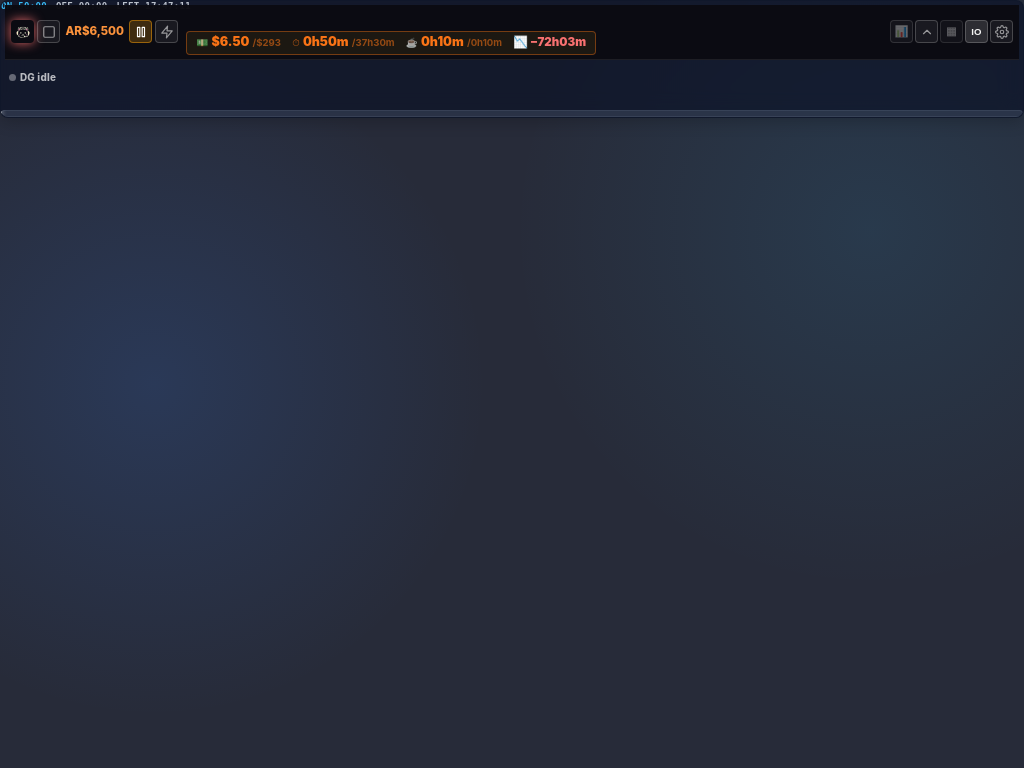
Test: header eval fixes (v4.164.0) › a pill with no number is not advertised as copyable
Click the button with id "header-expand-btn": (926, 32) [915,20,938,43]
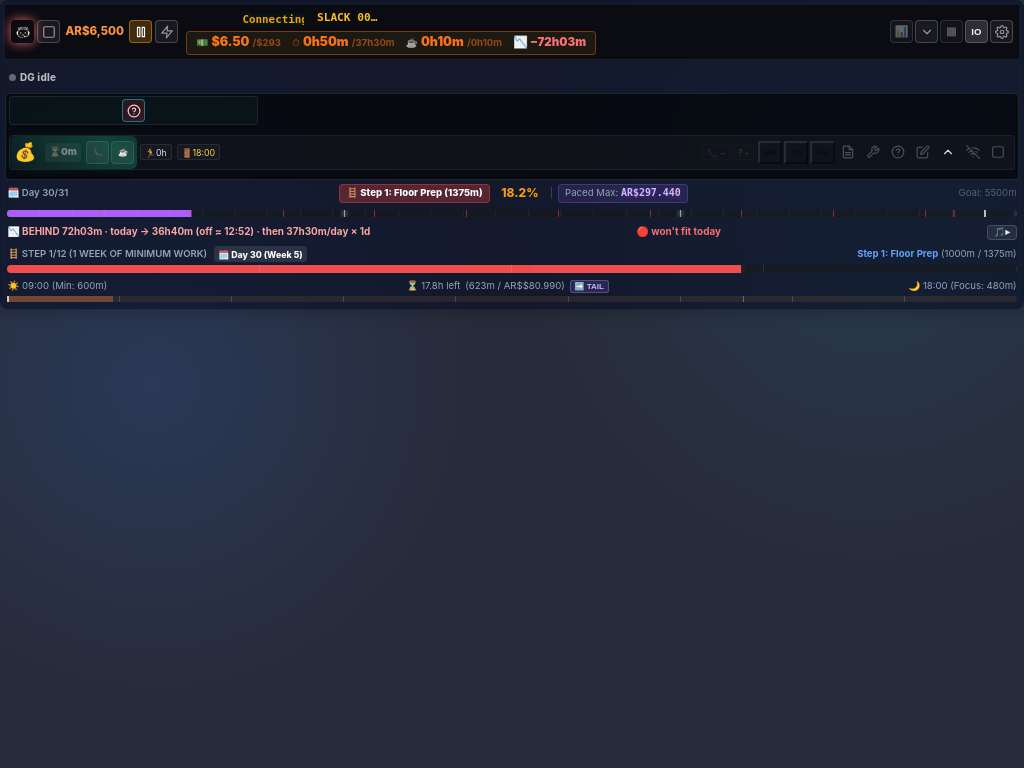
Result: the element showing "📞 –" is shown at [702,144,730,160]
